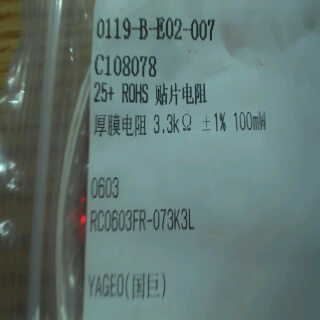3.3kO: (149, 107, 198, 140)
